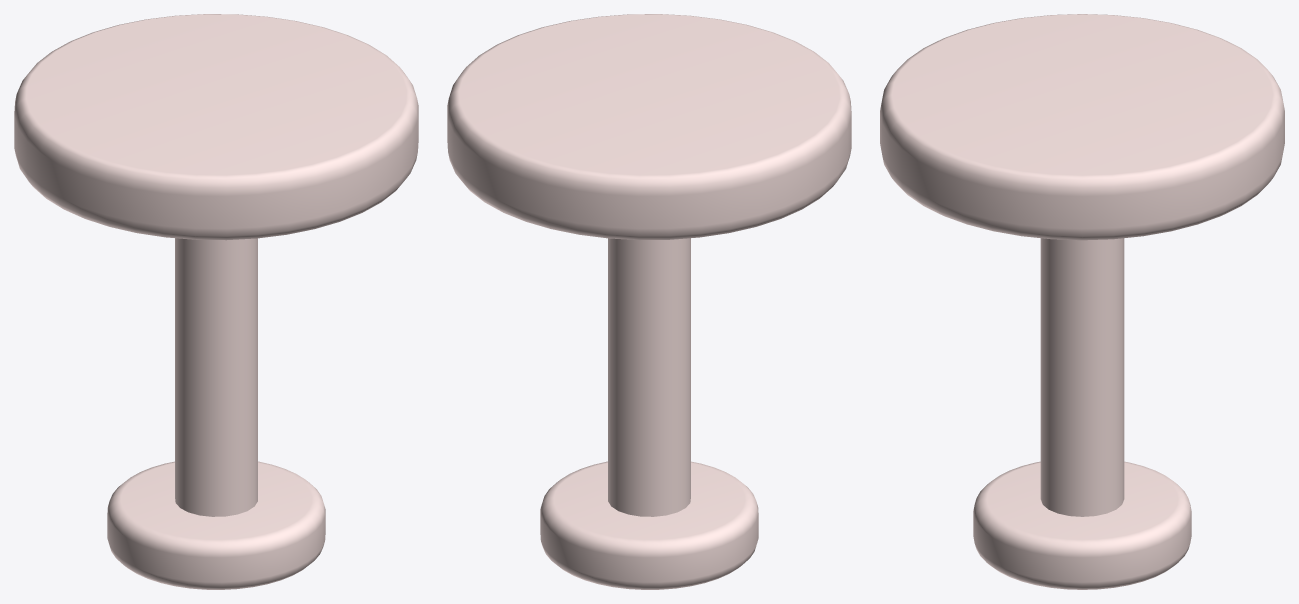
Rendered from City_19_Table_1.glb.
3 renders of one model, left to right at view 1: azimuth 30°, elevation 25°; view 2: azimuth 150°, elevation 25°; view 3: azimuth 270°, elevation 25°, orthographic.
Visible parts, largest first — view 1: City_19_Table_1; view 2: City_19_Table_1; view 3: City_19_Table_1.
Part boxes in pixels (x1,y1,x2,y2): City_19_Table_1: [14, 14, 418, 589]; City_19_Table_1: [447, 14, 851, 589]; City_19_Table_1: [880, 14, 1284, 589].
Size of the model in its own units: 0.8795 by 1.09 by 0.8795.
Materials: 1 (1 with a texture image).
